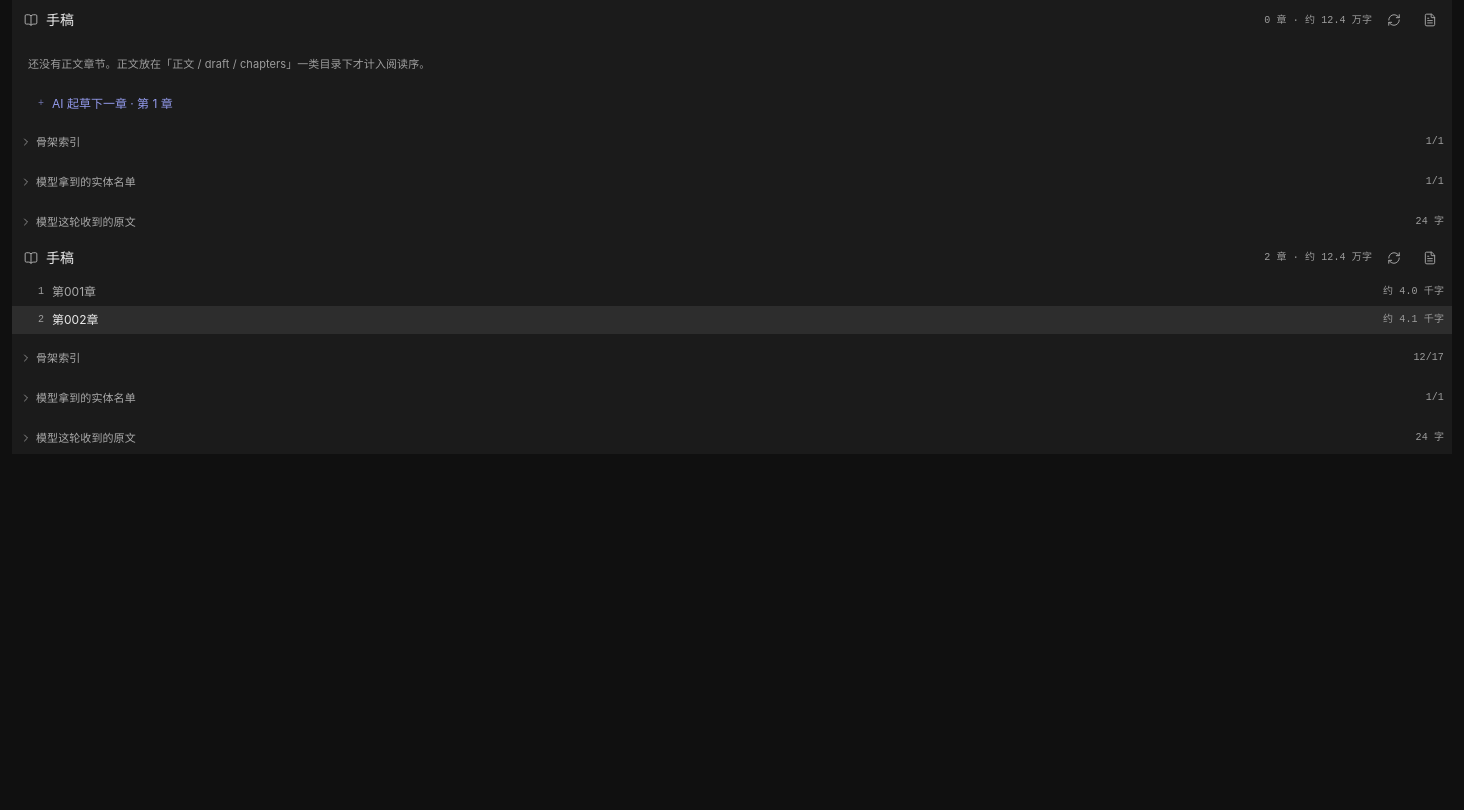
truncation is spelled out as a number, not hinted at
This screenshot has width=1464, height=810.
Click the button with test id "manuscript-toggle-skeleton" at (58, 358), box [12,342,1452,374]
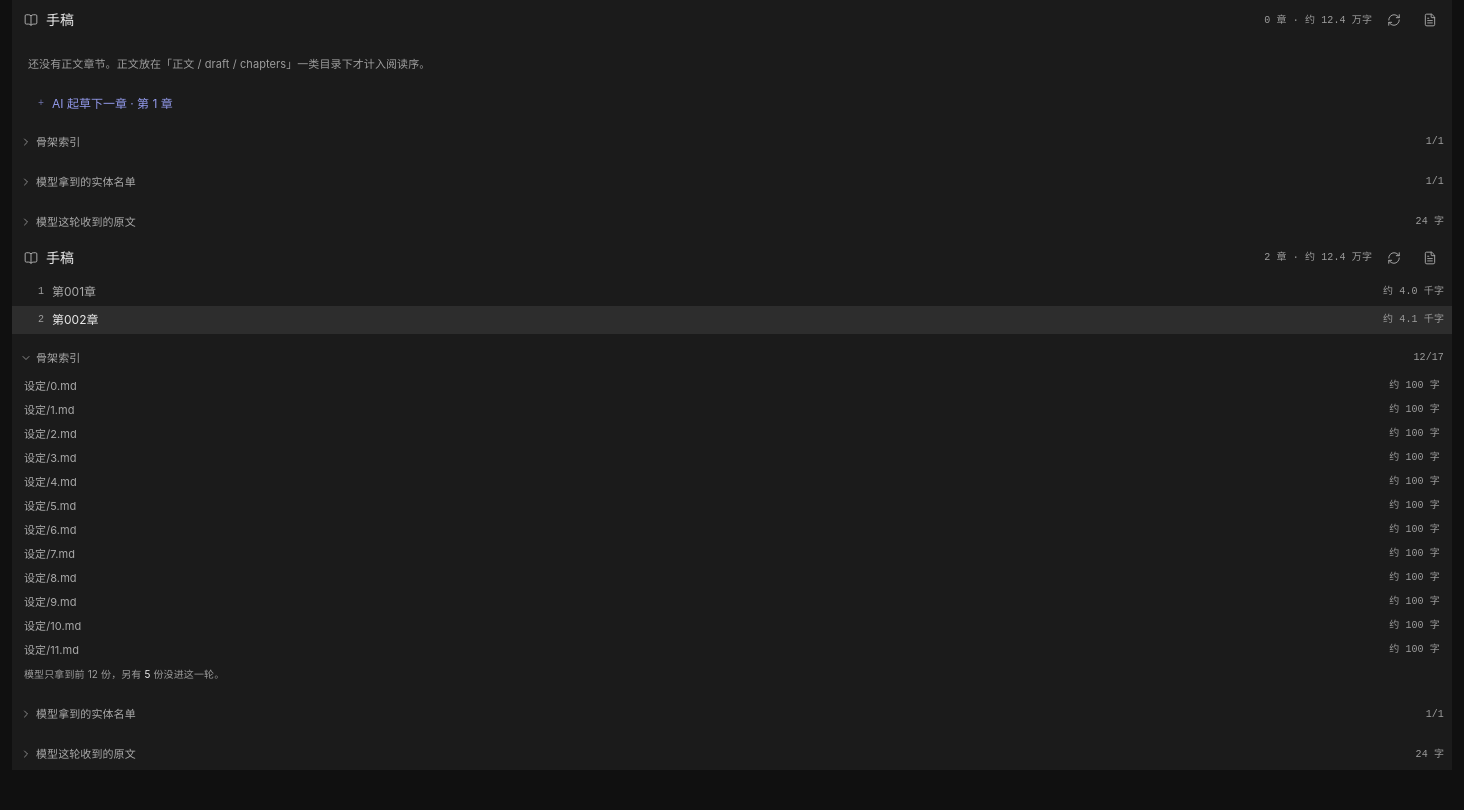
Result: the element with test id "manuscript-dropped-note" reads "模型只拿到前 12 份，另有 5 份没进这一轮。" at [24,668,224,680]
